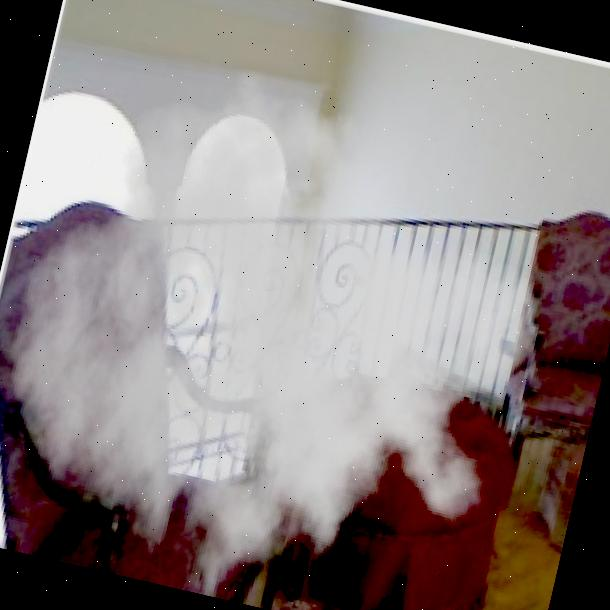smoke: (0, 17, 586, 610)
